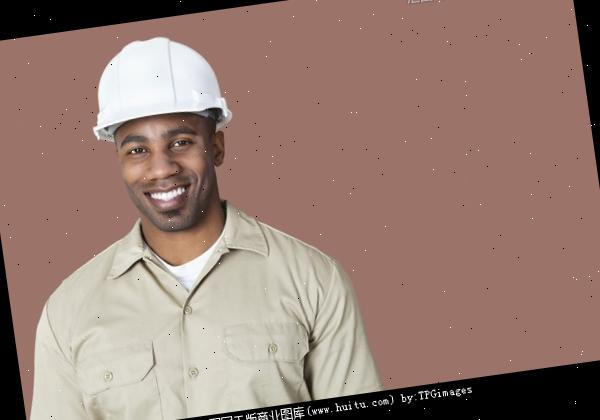helmet: (78, 34, 224, 140)
